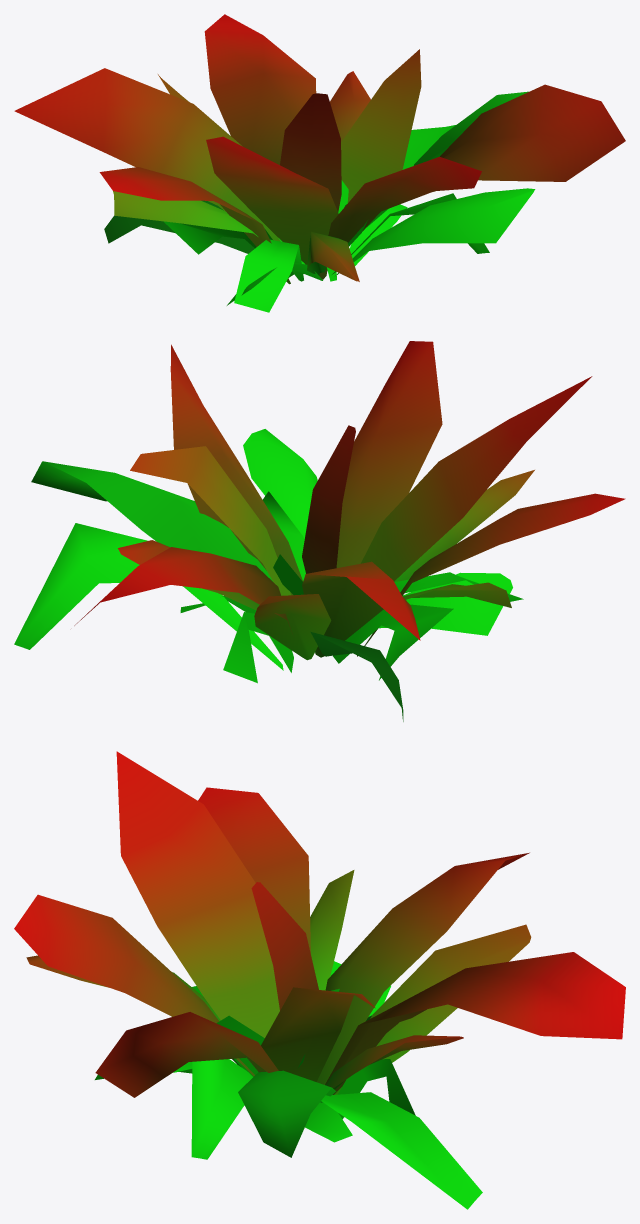
The model's file is Fern_LOD2_Var3_rmAsg.fbx.
3 renders of one model, top to bottom at view 1: azimuth 30°, elevation 25°; view 2: azimuth 150°, elevation 25°; view 3: azimuth 270°, elevation 25°, orthographic. The views are drawn at different scales.
Parts seen in each view (by area): view 1: _6b50_Var3_LOD2; view 2: _6b50_Var3_LOD2; view 3: _6b50_Var3_LOD2.
Boxes of the visible parts, <box> form: _6b50_Var3_LOD2: <box>14,14,625,312</box>; _6b50_Var3_LOD2: <box>14,341,625,721</box>; _6b50_Var3_LOD2: <box>14,751,625,1209</box>.
Size of the model in its own units: 202 by 92.39 by 187.
